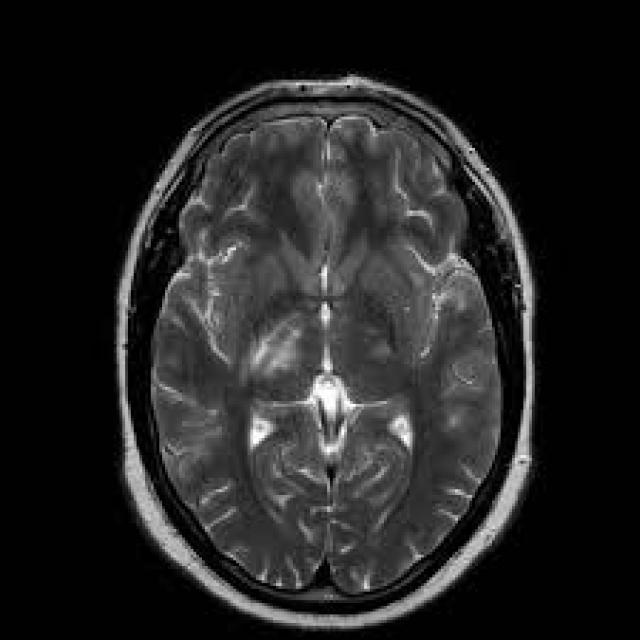notumor: (119, 77, 538, 634)
